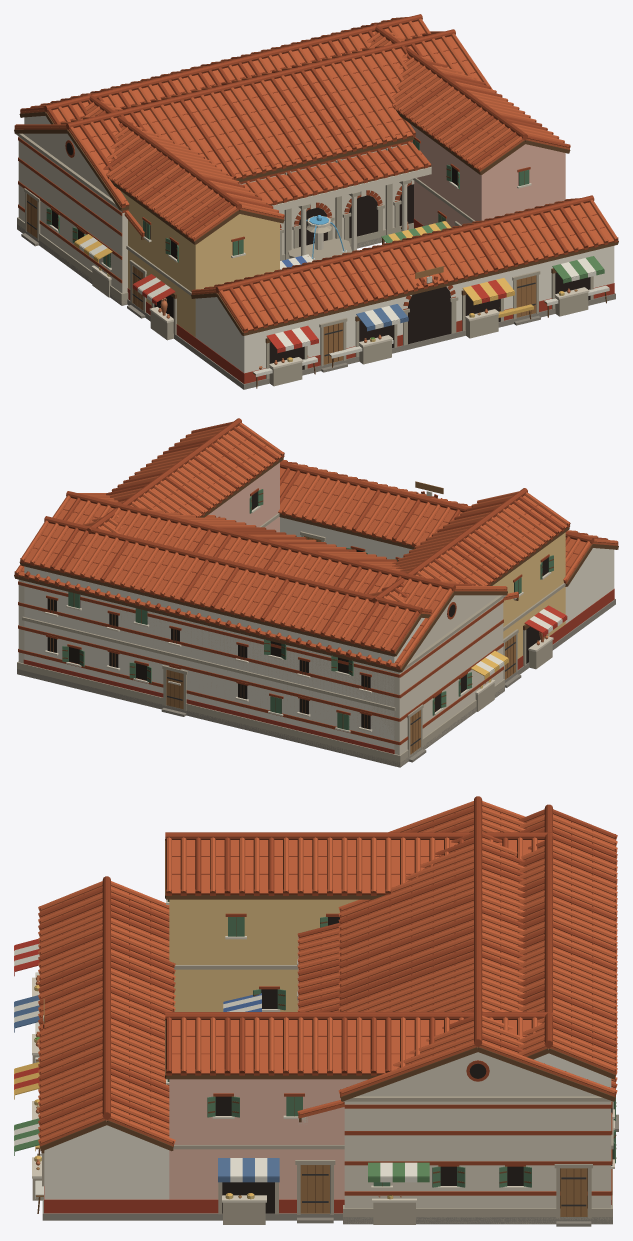
The model's file is Handelshaus.fbx.
3 views of the same model, one above another, from view 1: azimuth 30°, elevation 25°; view 2: azimuth 150°, elevation 25°; view 3: azimuth 270°, elevation 25° (orthographic). The views are drawn at different scales.
Parts seen in each view (by area): view 1: Handelshaus_1, Handelshaus_0; view 2: Handelshaus_1, Handelshaus_0; view 3: Handelshaus_1, Handelshaus_0.
Part boxes in pixels (x1,y1,x2,y2): Handelshaus_1: (19,14,618,389); Handelshaus_0: (14,29,609,388); Handelshaus_1: (19,418,618,753); Handelshaus_0: (14,491,518,767); Handelshaus_1: (14,804,618,1224); Handelshaus_0: (35,796,617,1226).
Size of the model in its own units: 7.33 by 2.46 by 7.25.
